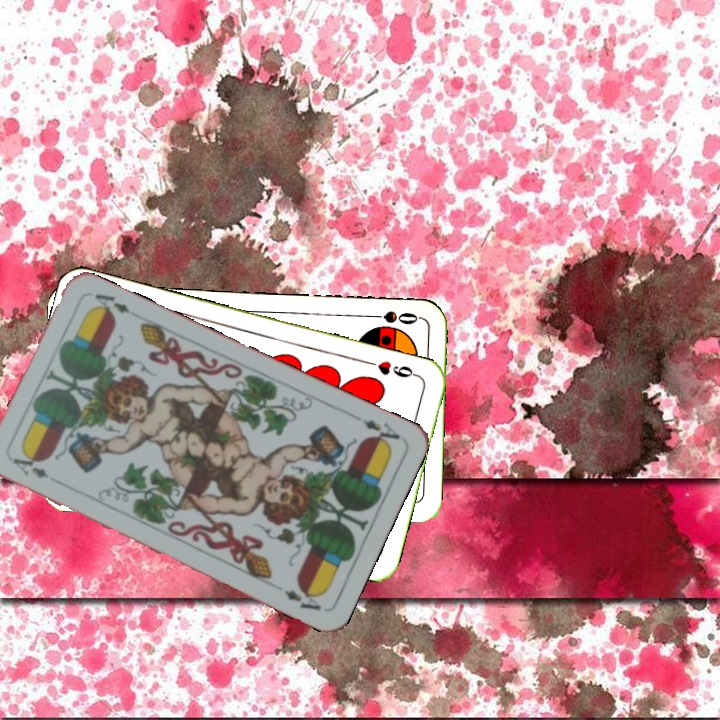EA: (349, 411, 403, 450), (8, 453, 64, 487)
H9: (363, 356, 421, 381)
SO: (362, 307, 421, 327)
